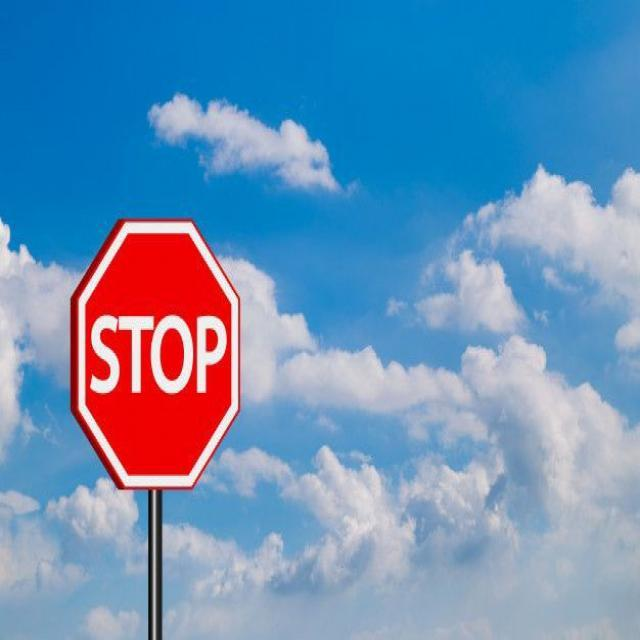stop: (68, 216, 241, 491)
